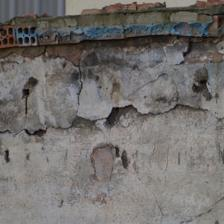Crack: (47, 37, 168, 120), (186, 0, 224, 37)
